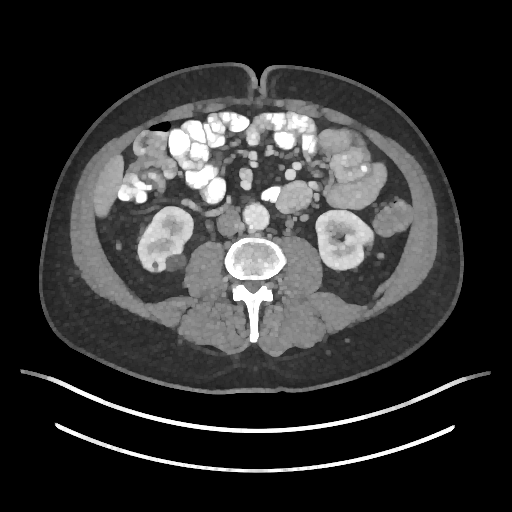Lesion: (161, 252, 189, 273)
